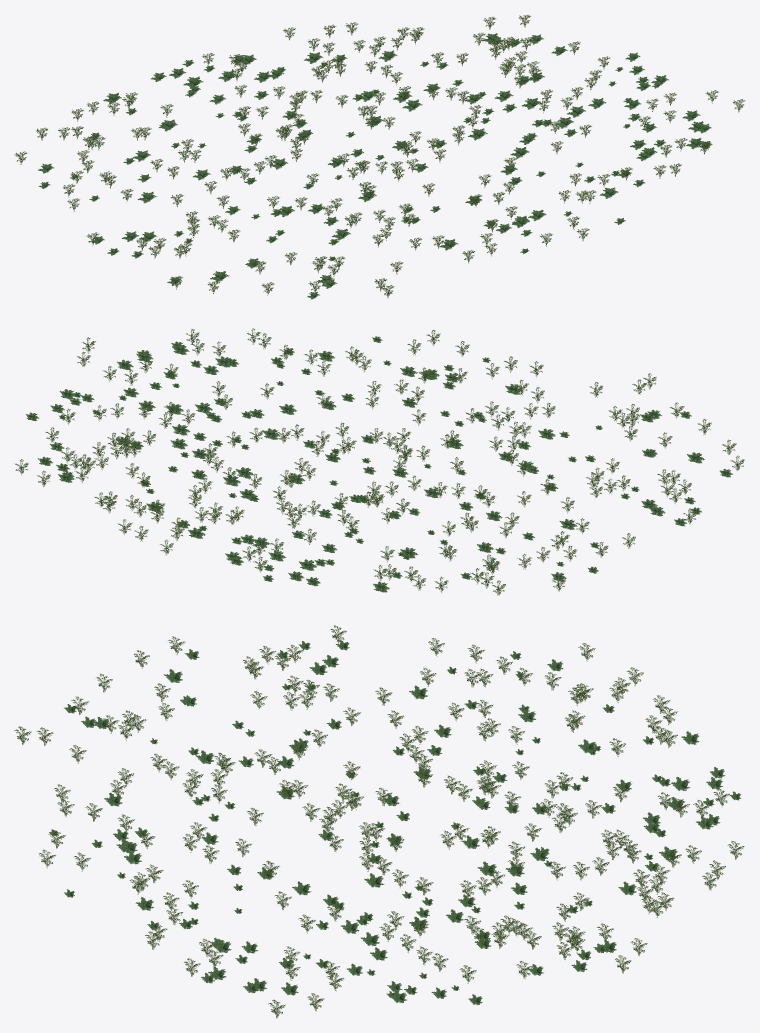
File: Plants.glb
3 renders of one model, top to bottom at view 1: azimuth 30°, elevation 25°; view 2: azimuth 150°, elevation 25°; view 3: azimuth 270°, elevation 25°, orthographic. The views are drawn at different scales.
Bounding box in the file's own units: 71.24 × 1.48 × 57.68.
4 materials, 4 textured.
